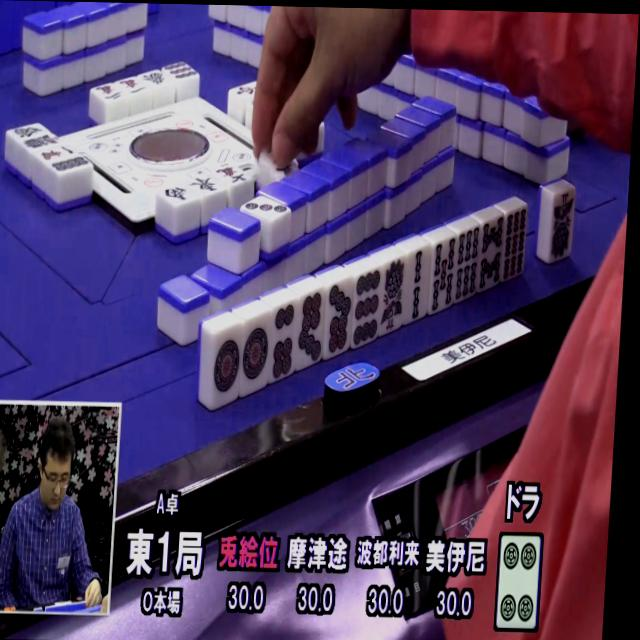1B: (379, 258, 410, 334), (549, 184, 576, 259)
1D: (205, 326, 245, 407), (238, 315, 275, 395)
2B: (402, 249, 432, 326)
3D: (242, 192, 289, 224)
4D: (495, 533, 545, 629)
5B: (426, 237, 459, 317)
6B: (451, 225, 483, 303)
6D: (265, 303, 302, 385)
7D: (292, 289, 329, 369), (321, 282, 358, 359)
8B: (476, 218, 506, 294)
9B: (499, 207, 531, 284)
9D: (349, 267, 385, 347)
